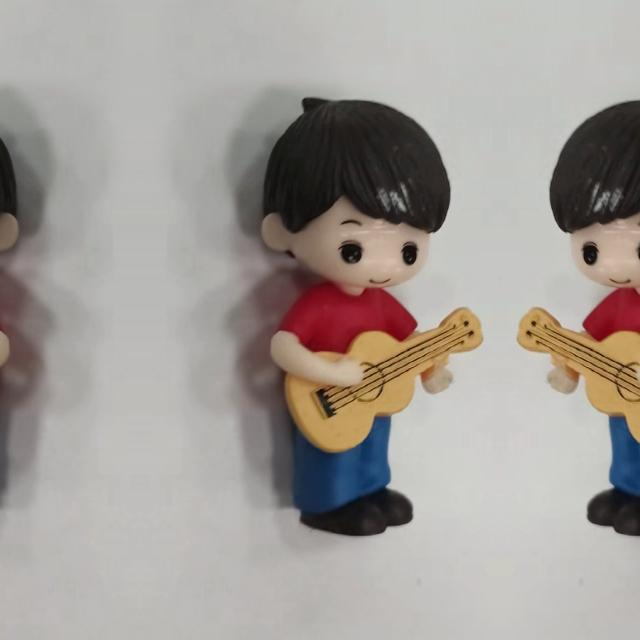man cloth: (279, 288, 429, 416), (571, 288, 640, 415), (0, 288, 1, 415)
man head: (254, 92, 453, 294), (546, 91, 640, 294), (0, 91, 25, 294)
trousers: (292, 404, 420, 556), (580, 404, 640, 556)
